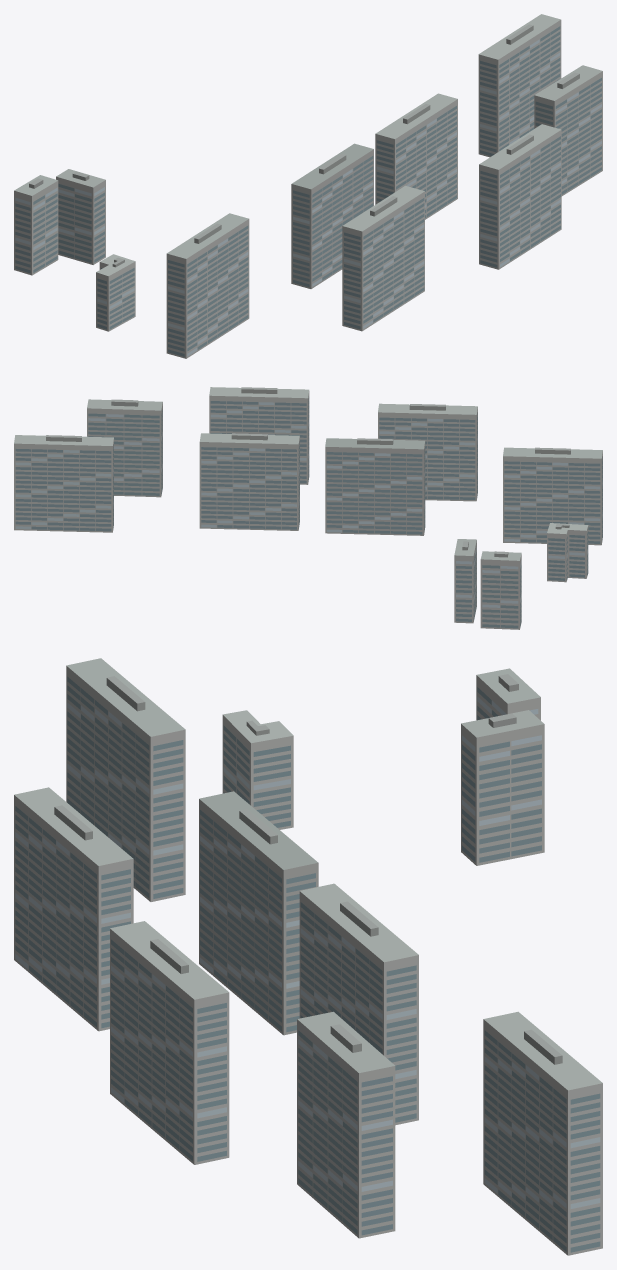
Rendered from apt-a13204204.glb.
3 renders of one model, top to bottom at view 1: azimuth 30°, elevation 25°; view 2: azimuth 150°, elevation 25°; view 3: azimuth 270°, elevation 25°, orthographic. The views are drawn at different scales.
Visible parts, largest first — view 1: apt-a13204204; view 2: apt-a13204204; view 3: apt-a13204204.
Part boxes in pixels (left/top/right/bottom): apt-a13204204: left=14, top=14, right=602, bottom=358; apt-a13204204: left=14, top=387, right=602, bottom=629; apt-a13204204: left=14, top=658, right=602, bottom=1255.
Size of the model in its own units: 305 by 54 by 167.
